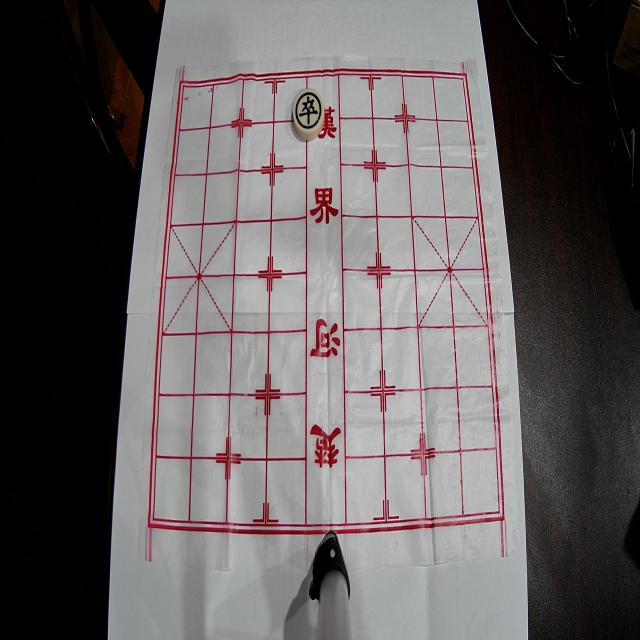black-soldier: (293, 89, 325, 140)
